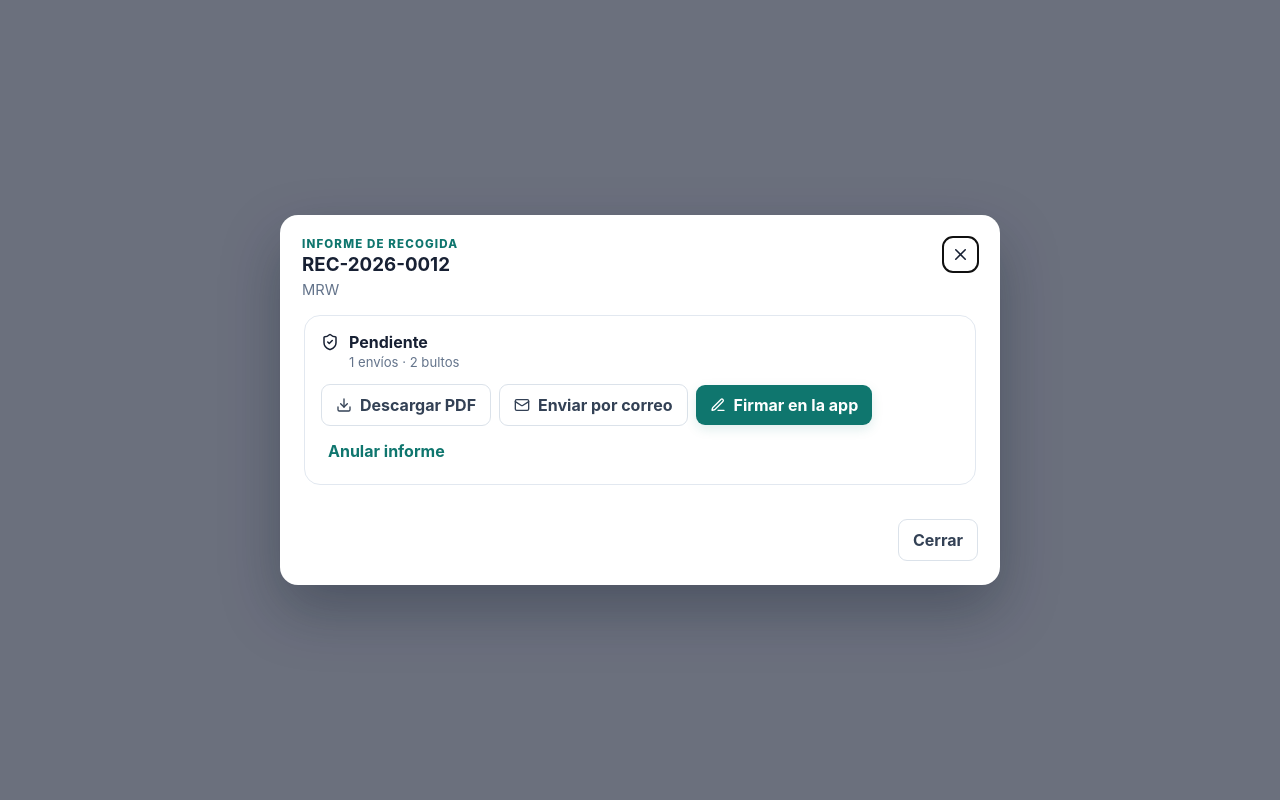
Scenario: shows the workspace owner copy below the recipient and checks it by default
Click the button "Enviar por correo" at (593, 405), box [499,384,688,426]
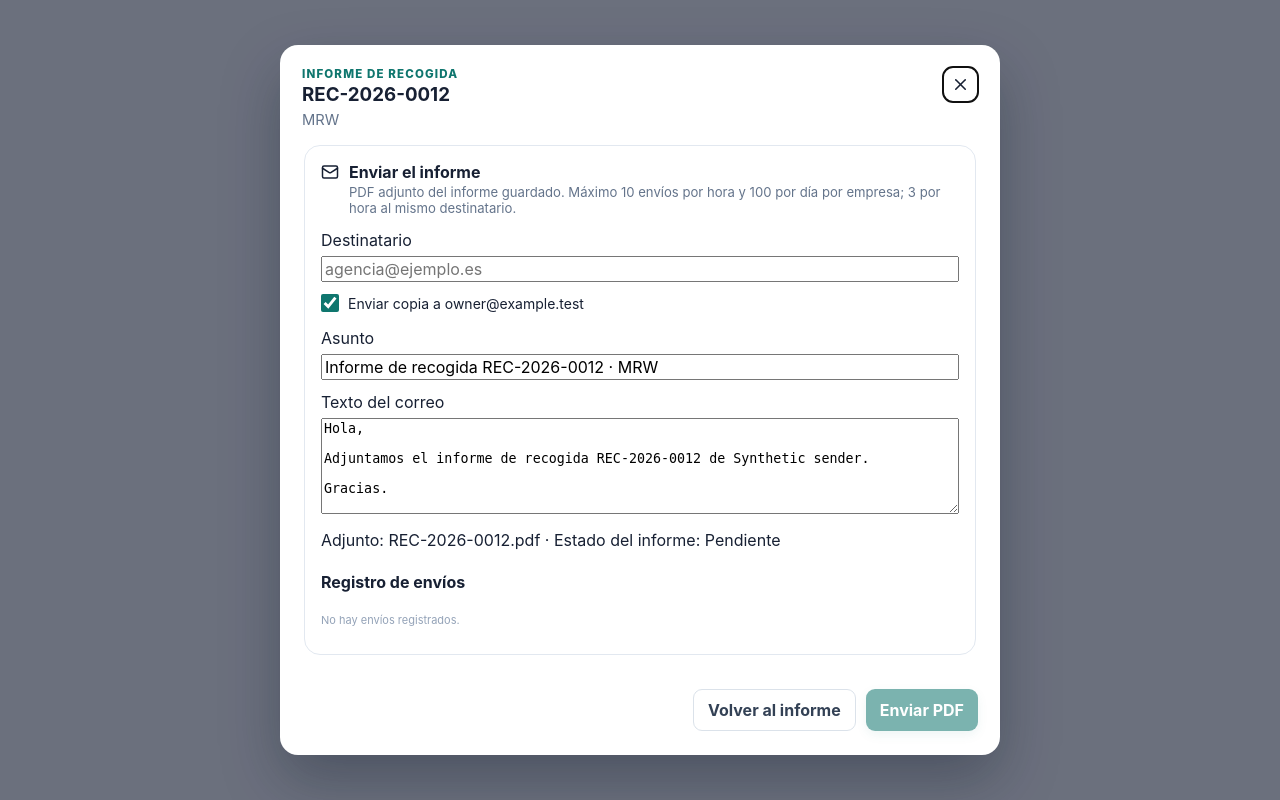
Expected: the checkbox labelled "Enviar copia a owner@example.test" is checked, [321,294,339,312]
